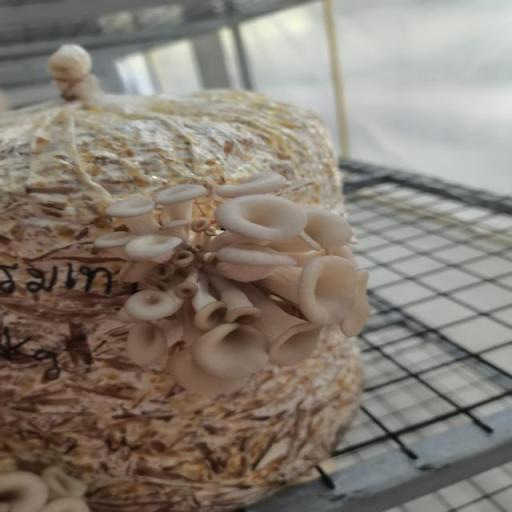White Oyster Mushroom: (91, 166, 387, 389)
